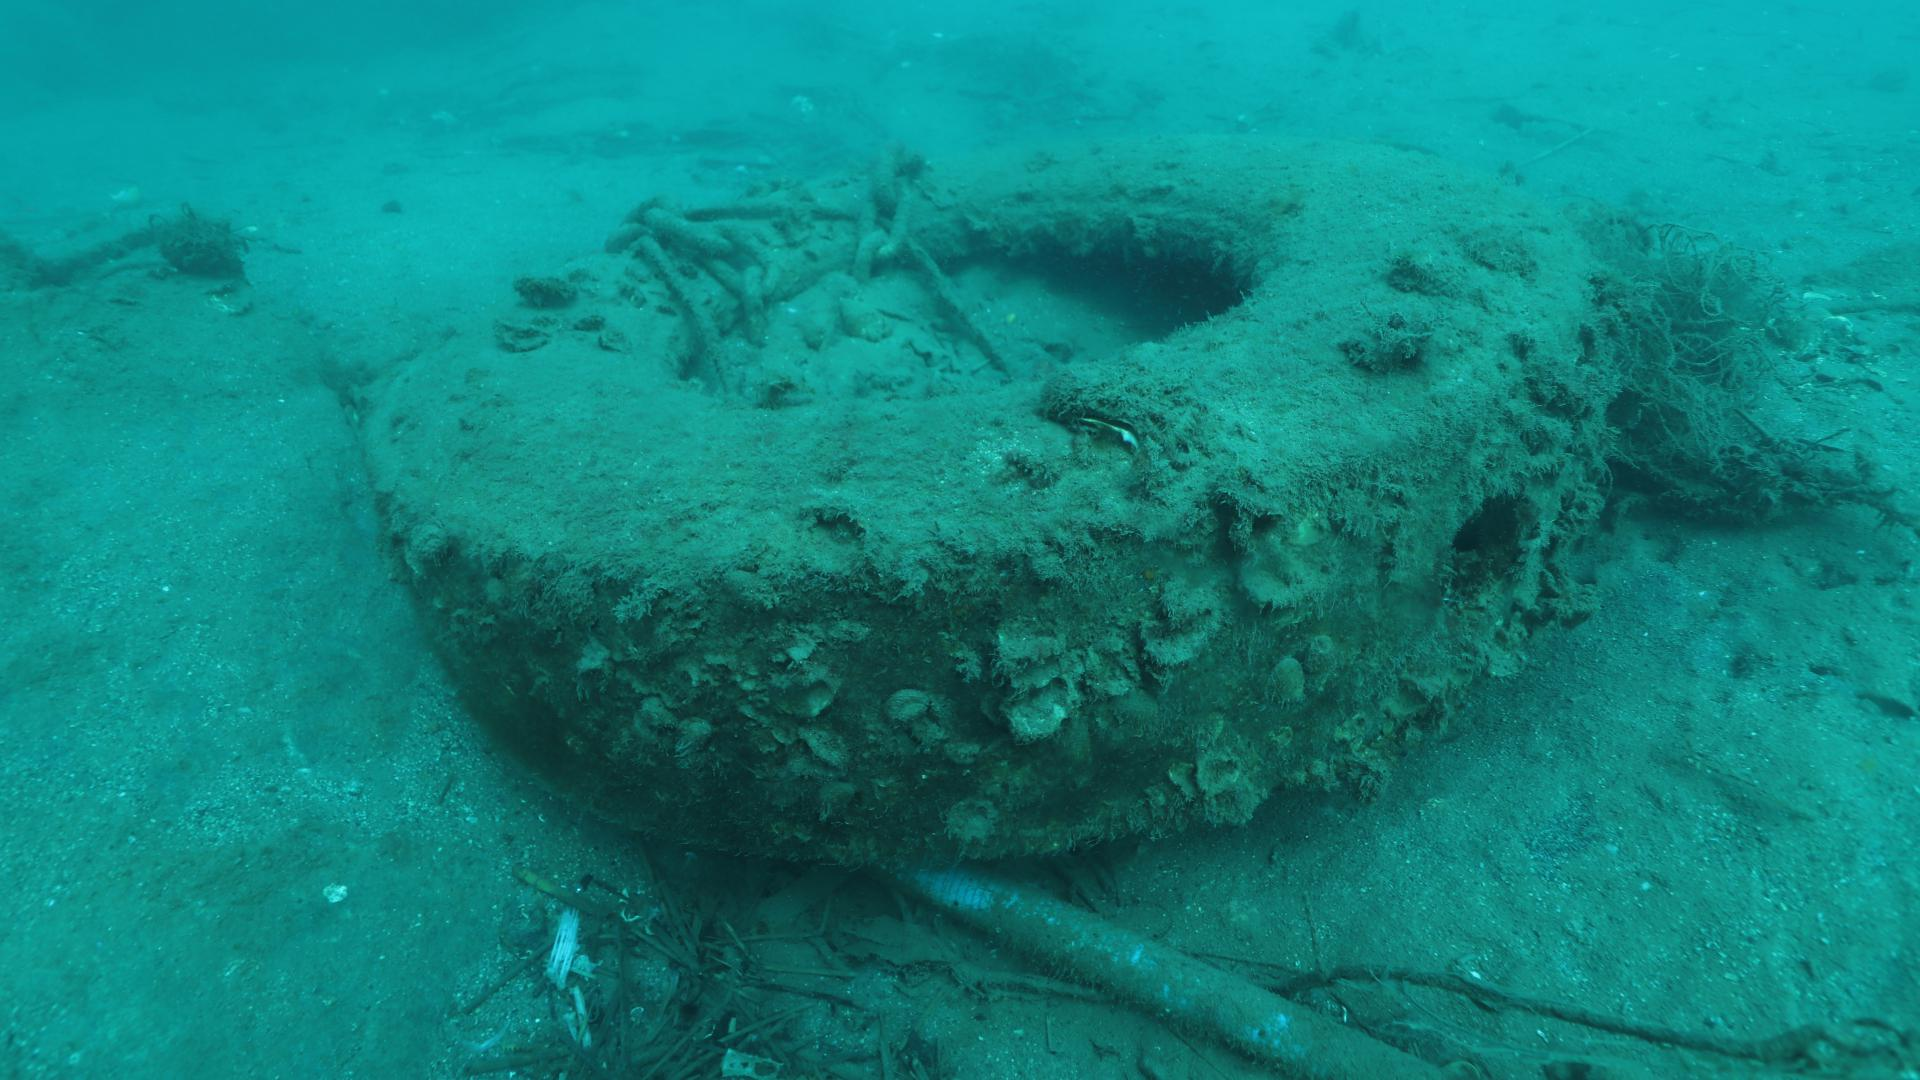tire: (363, 131, 1592, 872)
